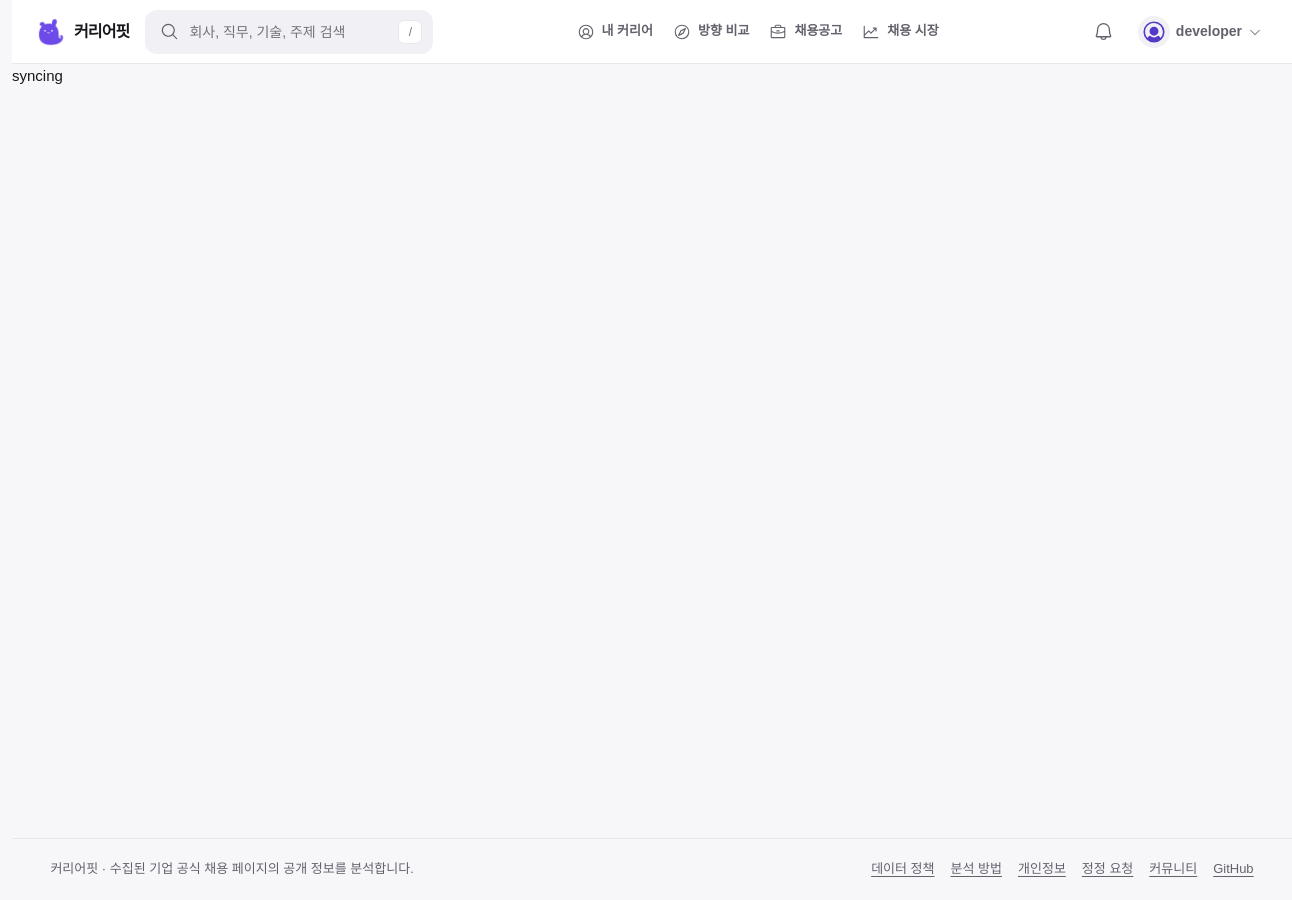
Test: AppShell › shares the syncing account state without implementation terms
The width and height of the screenshot is (1292, 900).
Expected: the text named "계정 저장 상태" reads "syncing", [12,67,63,84]
Click the button with aria-label "사용자 메뉴 열기" at (1200, 32), box [1132,10,1268,54]
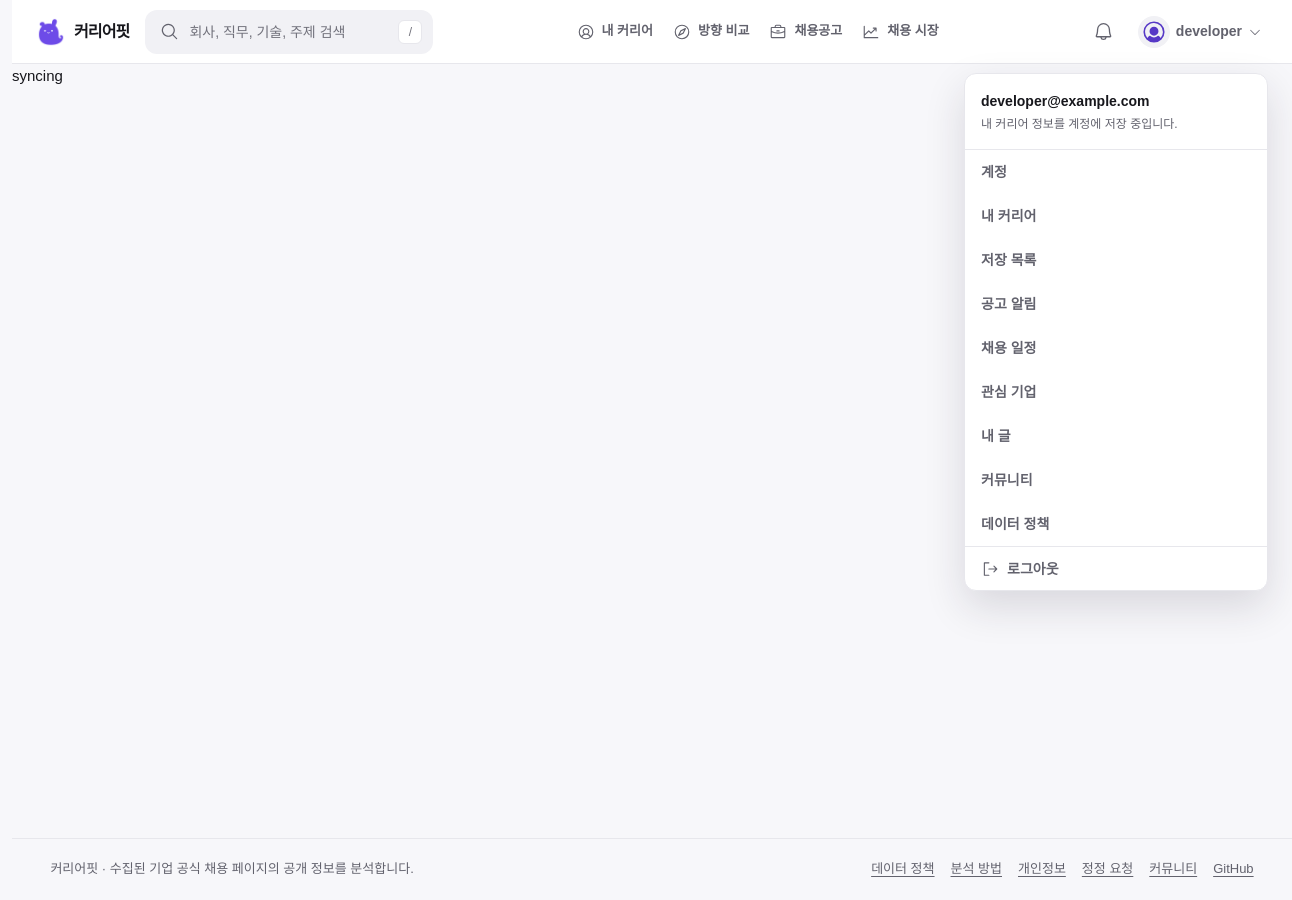
Now the text "내 커리어 정보를 계정에 저장 중입니다." is shown, box [981,117,1178,131]
